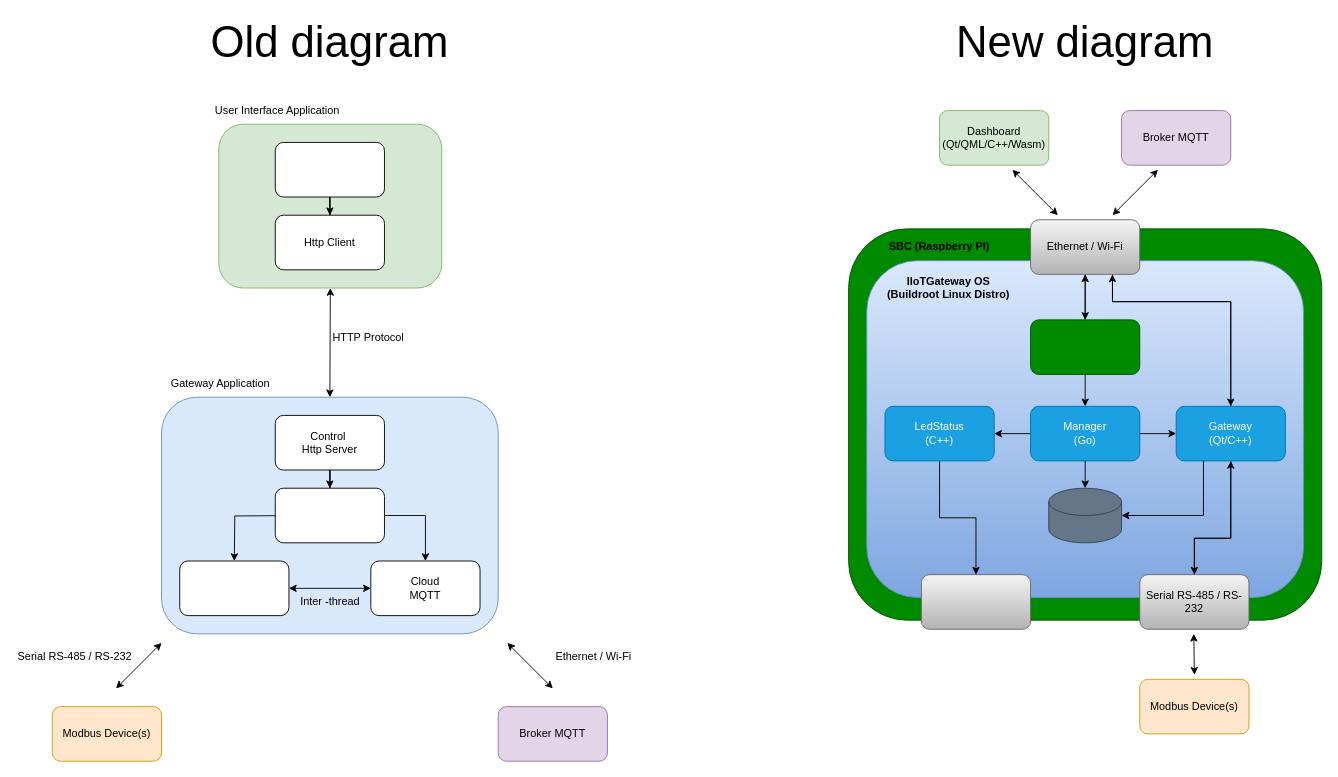
Some shapes in this 1338 by 777 pixel diagram are drawn without their labels. Here are the shapes that lost their labels. From the top down, the centre of each, then its label:
At (329,169): "UI Interface".
At (1085,346): "NGINX (Dashboard files, reverse proxy, TLS)".
At (329,515): "Gateway".
At (1085,515): "SQLite".
At (234,588): "Edge Modbus RTU".
At (975,601): "GPIO".
